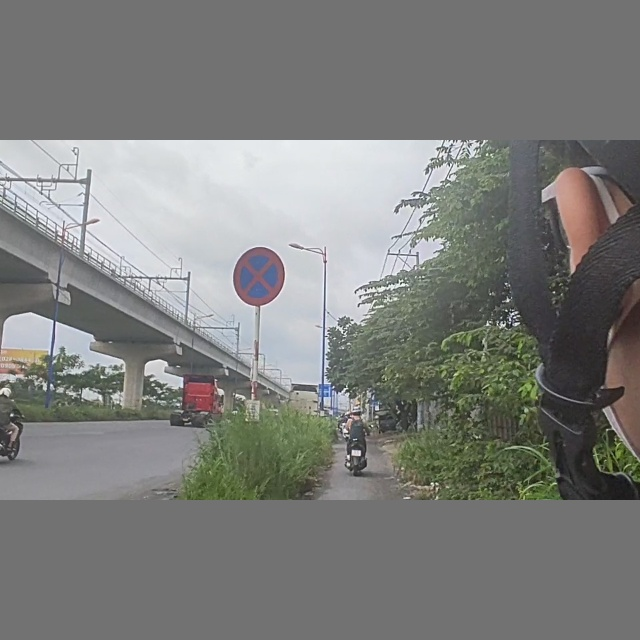P.130: (229, 245, 294, 311)
